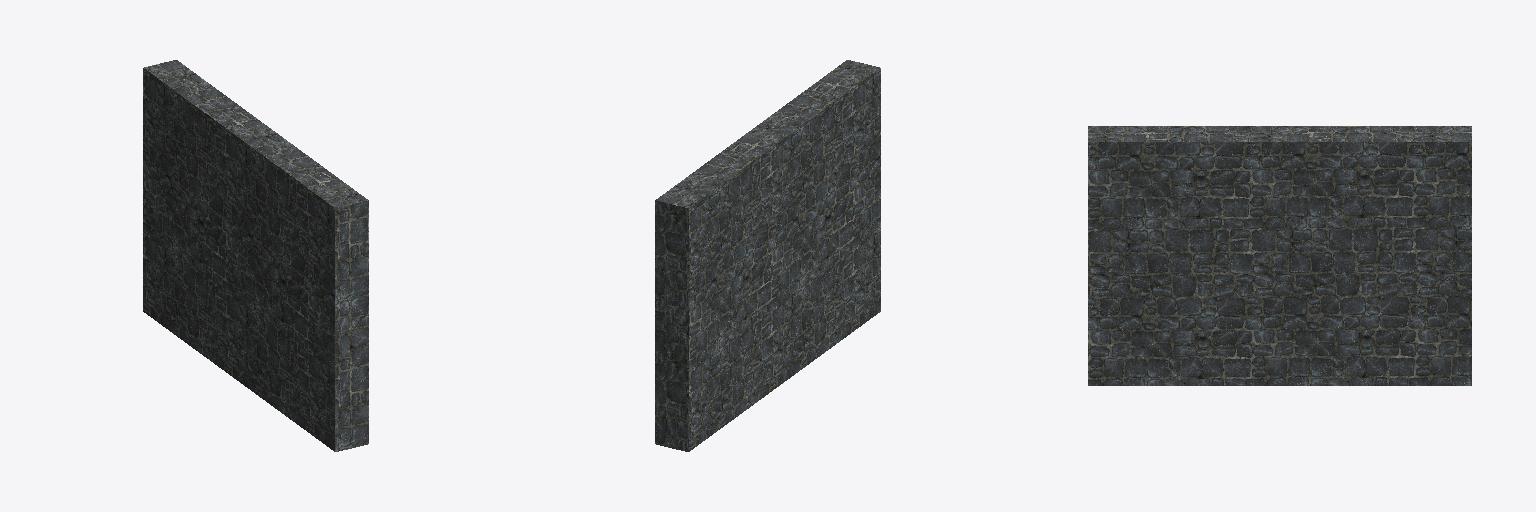
3 renders of one model, left to right at view 1: azimuth 30°, elevation 25°; view 2: azimuth 150°, elevation 25°; view 3: azimuth 270°, elevation 25°, orthographic.
Visible parts, largest first — view 1: stoneWall; view 2: stoneWall; view 3: stoneWall.
Boxes of the visible parts, <box> form: stoneWall: <box>143,60,368,451</box>; stoneWall: <box>655,60,880,451</box>; stoneWall: <box>1088,126,1471,385</box>.
Bounding box in the file's own units: 0.2 × 1.4 × 2.
Materials: 1 (1 with a texture image).